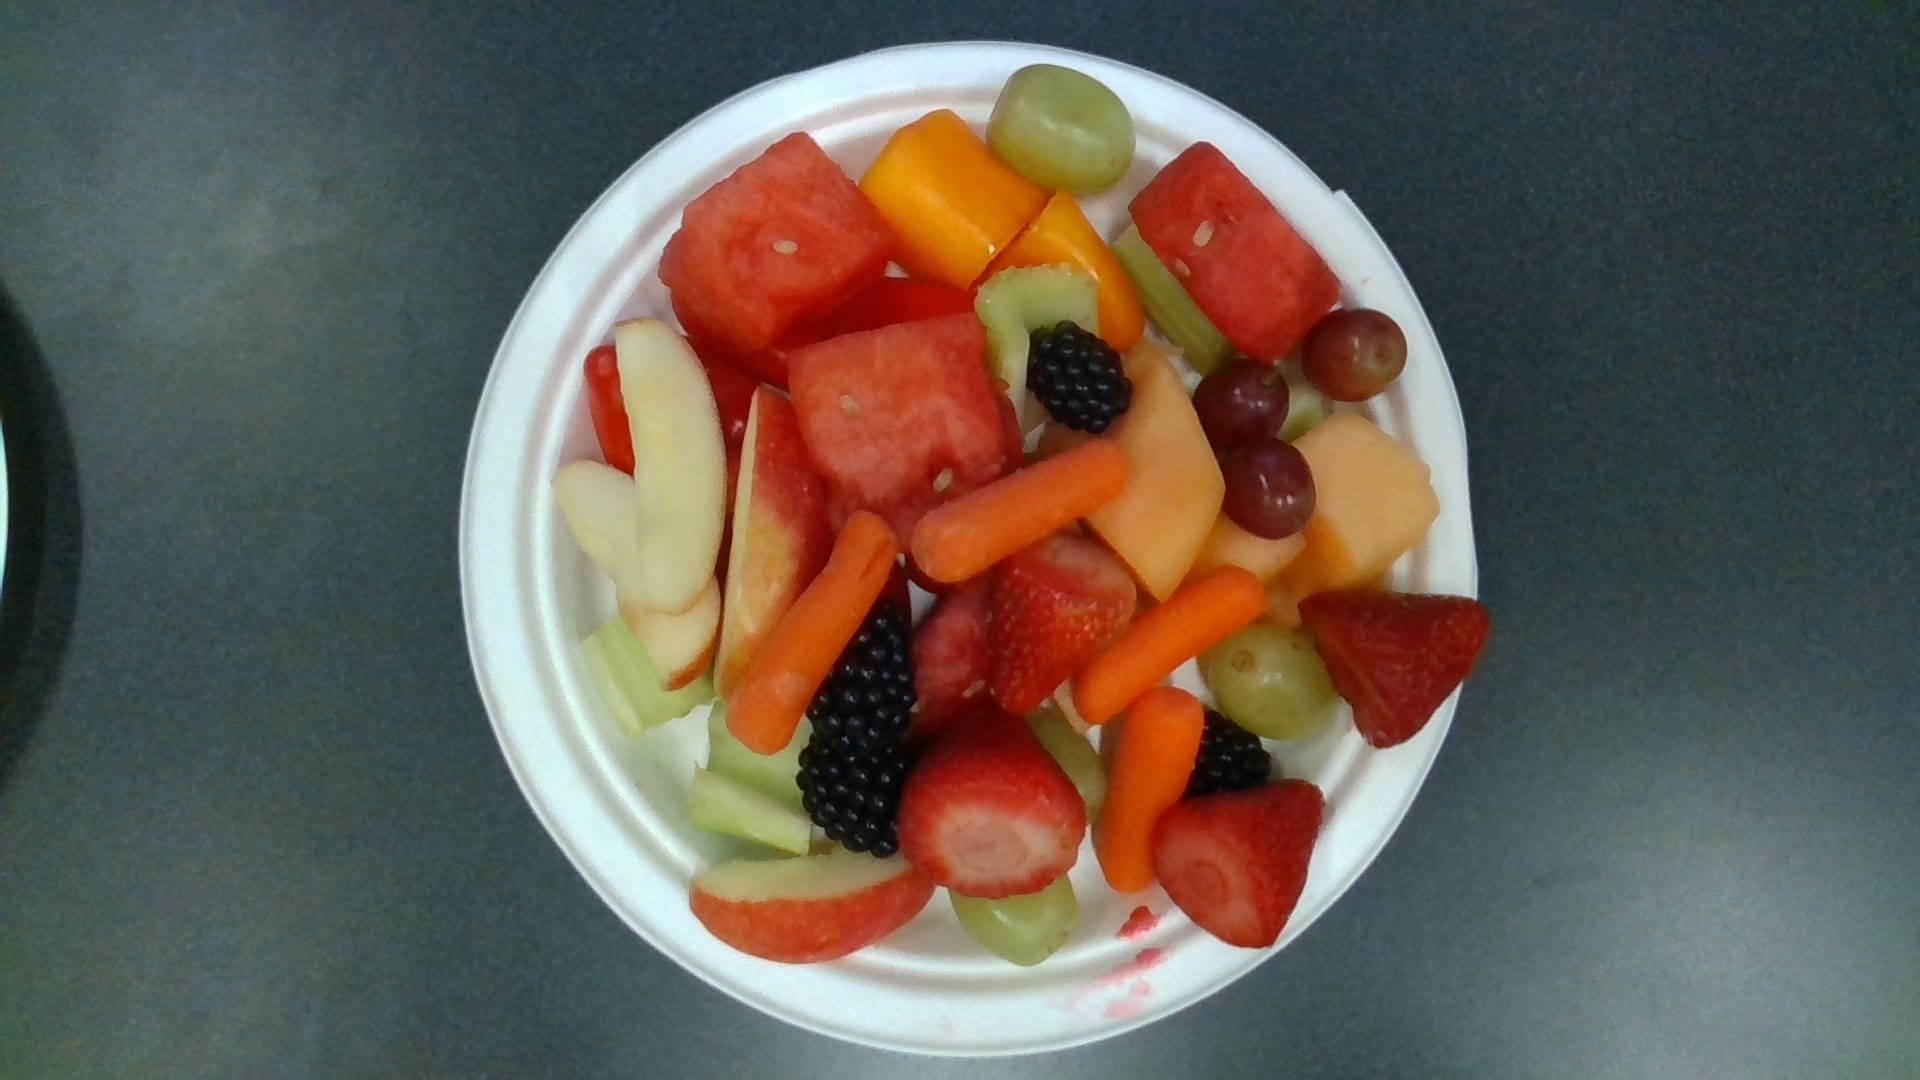apple: (715, 390, 829, 691), (617, 320, 725, 608), (688, 860, 939, 961)
bell_pepper: (864, 108, 1048, 285)
blackberry: (812, 601, 915, 748), (804, 738, 907, 860), (1027, 324, 1134, 436)
cantalope: (1083, 349, 1225, 601), (1262, 411, 1437, 608)
carrot: (727, 510, 899, 756), (910, 440, 1134, 585), (1080, 570, 1265, 720), (1092, 695, 1212, 895)
grape_green: (986, 66, 1139, 200), (949, 876, 1079, 971)
grape_purple: (1224, 440, 1315, 541), (1309, 311, 1404, 400), (1197, 365, 1288, 443)
melon: (665, 135, 899, 349), (794, 315, 1007, 524), (1135, 146, 1340, 363)
strawberry: (897, 716, 1084, 899), (1154, 781, 1324, 948), (1304, 595, 1487, 742), (996, 535, 1137, 717)
